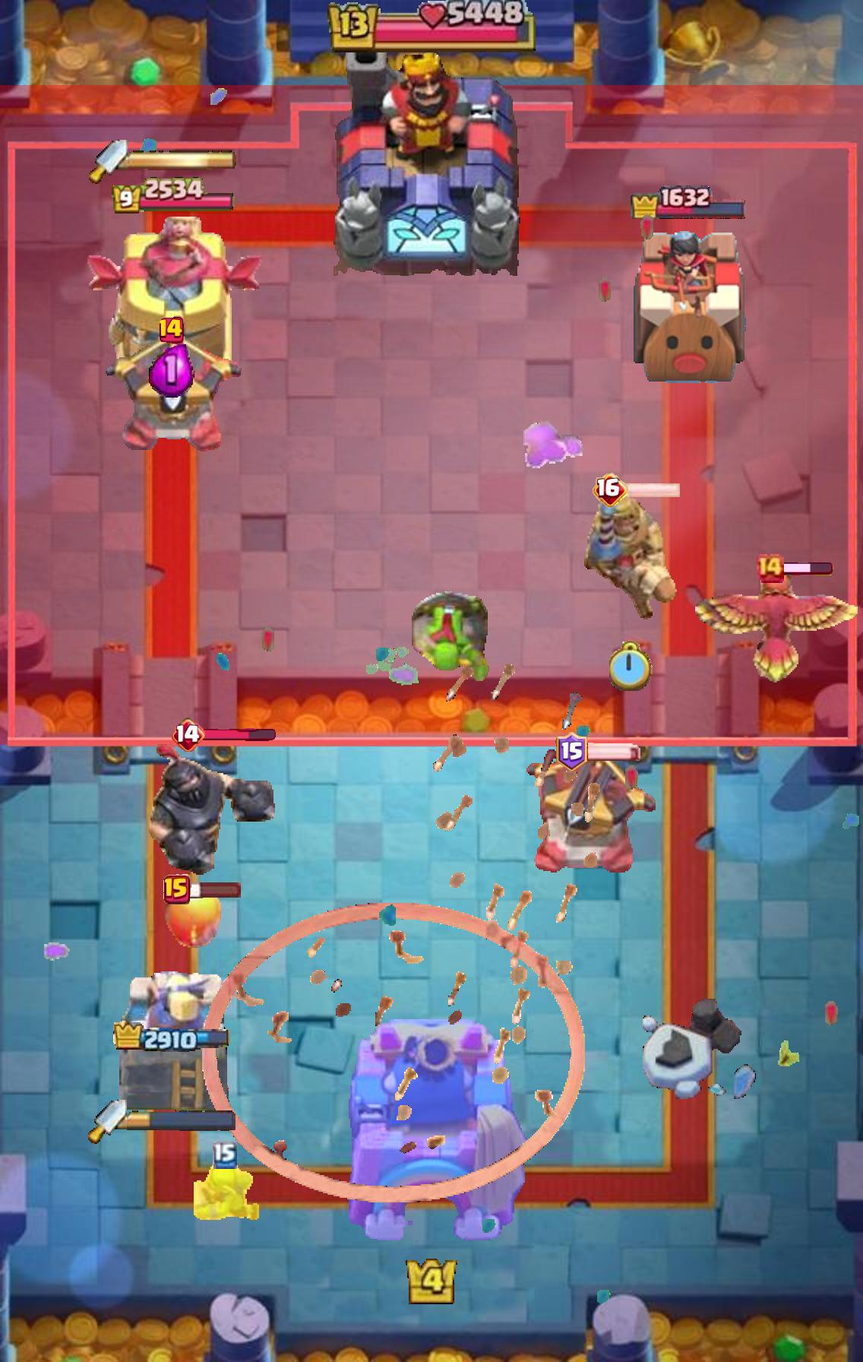bar: (371, 389, 413, 438)
